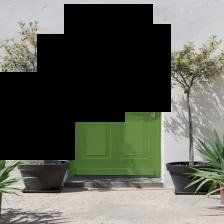green: (69, 31, 161, 178)
